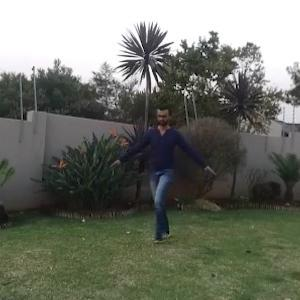land: (111, 102, 212, 230)
